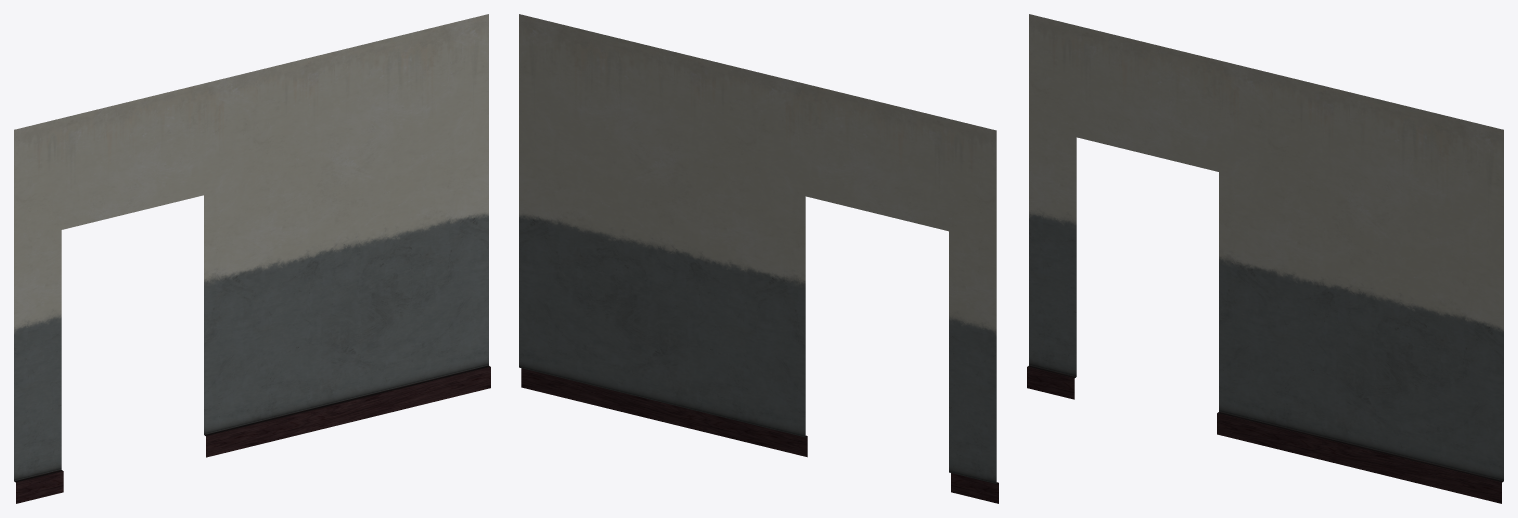
Rendered from Wall 4 Door D.fbx.
3 renders of one model, left to right at view 1: azimuth 30°, elevation 25°; view 2: azimuth 150°, elevation 25°; view 3: azimuth 330°, elevation 25°, orthographic.
Visible parts, largest first — view 1: Wall_4_Door_D; view 2: Wall_4_Door_D; view 3: Wall_4_Door_D.
Boxes of the visible parts, box(x1,y1,x2,y2) form: Wall_4_Door_D: box(14, 14, 490, 503); Wall_4_Door_D: box(519, 14, 998, 503); Wall_4_Door_D: box(1027, 14, 1503, 503).
Size of the model in its own units: 400 by 300 by 3.
